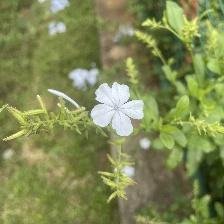chitrak: (90, 77, 149, 139)
